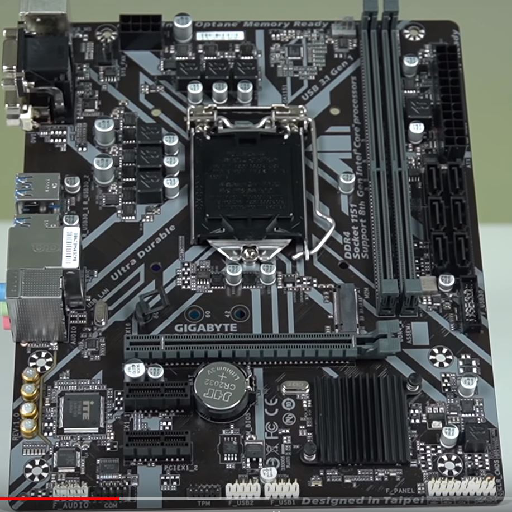CPU: (187, 122, 310, 265)
GPU: (121, 322, 401, 363)
MOTHERBOARD: (7, 5, 508, 508)
RAM: (357, 2, 421, 315)
SSD: (330, 282, 360, 334)
